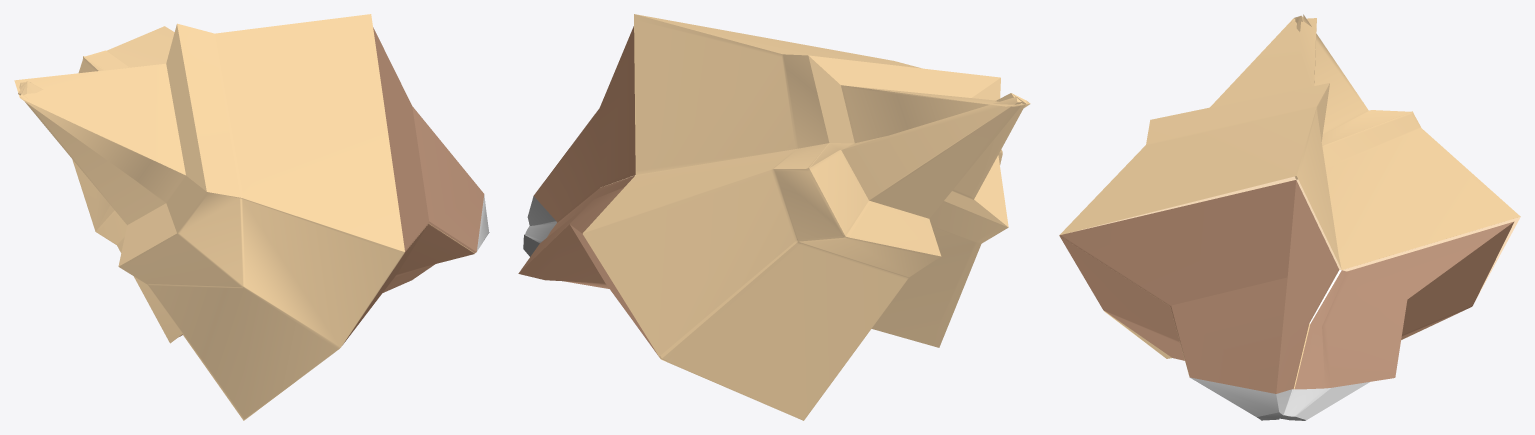
File: chunk4.fbx
The picture shows the model from 3 angles, left to right: view 1: azimuth 30°, elevation 25°; view 2: azimuth 150°, elevation 25°; view 3: azimuth 270°, elevation 25°; orthographic projection. The views are drawn at different scales.
Visible parts, largest first — view 1: chunk4; view 2: chunk4; view 3: chunk4.
Boxes of the visible parts, x1,y1,x2,y2 form: chunk4: [14, 14, 489, 420]; chunk4: [518, 14, 1030, 420]; chunk4: [1059, 14, 1520, 420].
Bounding box in the file's own units: 6.12 × 4.13 × 6.01.
